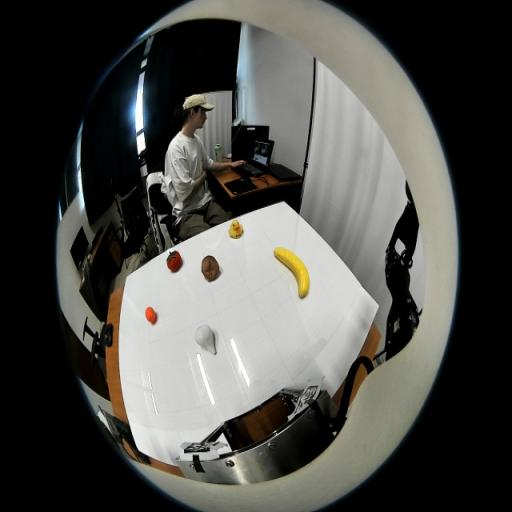Banana: (273, 248, 310, 298)
Duck: (228, 220, 244, 238)
Mushroom: (202, 256, 219, 280)
Onion: (194, 325, 216, 355)
Orange: (146, 307, 156, 322)
Tomato: (166, 251, 182, 271)
